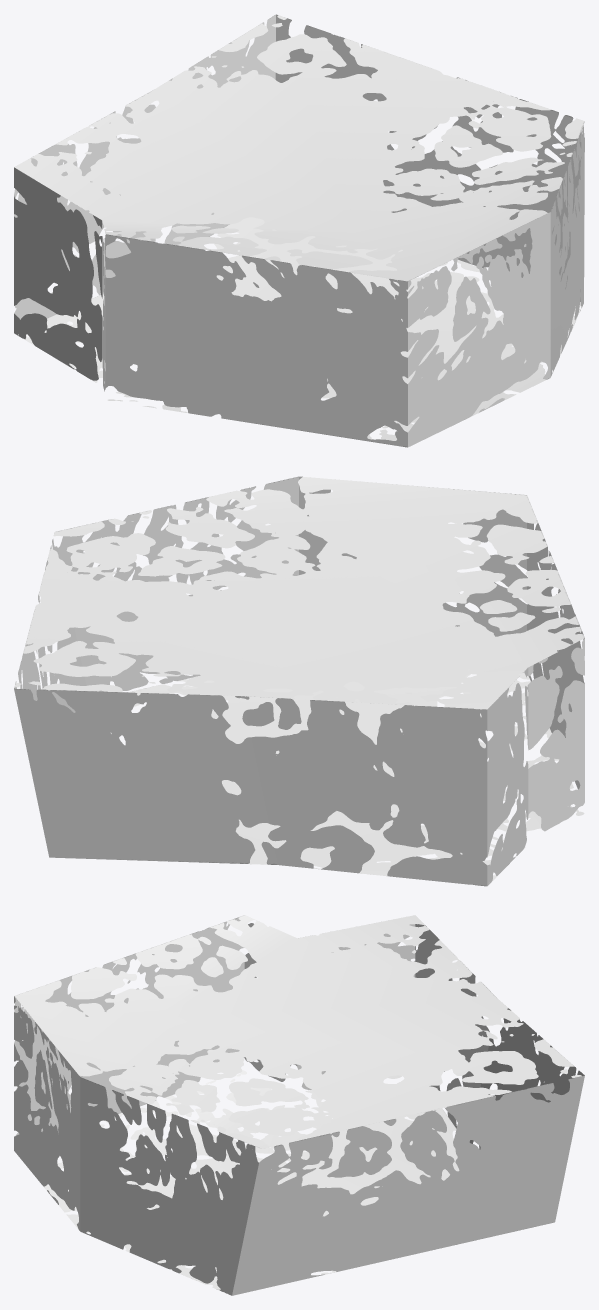
The model's file is iceberg_2.fbx.
The picture shows the model from 3 angles, top to bottom: view 1: azimuth 30°, elevation 25°; view 2: azimuth 150°, elevation 25°; view 3: azimuth 270°, elevation 25°; orthographic projection. The views are drawn at different scales.
Parts seen in each view (by area): view 1: Iceberg 2; view 2: Iceberg 2; view 3: Iceberg 2.
Part boxes in pixels (x1,y1,x2,y2): Iceberg 2: (14, 14, 584, 447); Iceberg 2: (14, 476, 584, 886); Iceberg 2: (14, 915, 584, 1295).
Bounding box in the file's own units: 616 × 216 × 669.
